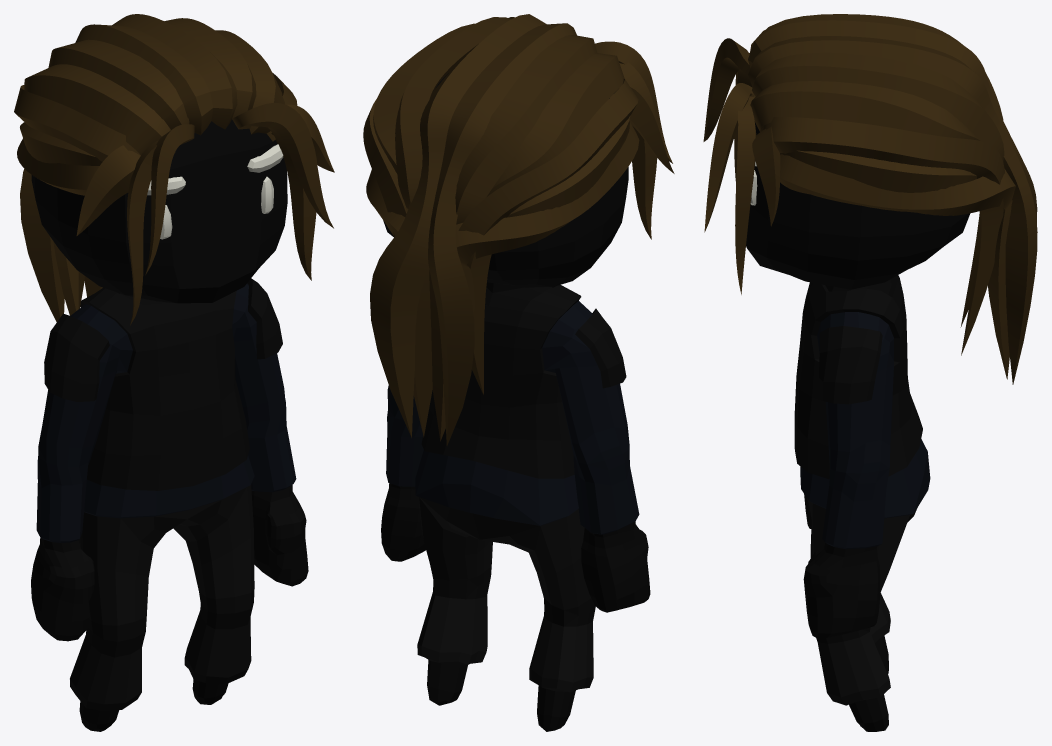
File: BlueSoldier_Female.obj
3 renders of one model, left to right at view 1: azimuth 30°, elevation 25°; view 2: azimuth 150°, elevation 25°; view 3: azimuth 270°, elevation 25°, orthographic. The views are drawn at different scales.
Parts seen in each view (by area): view 1: Body_Cube.004; view 2: Body_Cube.004; view 3: Body_Cube.004.
Boxes of the visible parts, x1,y1,x2,y2 form: Body_Cube.004: [14, 14, 334, 731]; Body_Cube.004: [363, 14, 674, 731]; Body_Cube.004: [703, 14, 1037, 731].
Bounding box in the file's own units: 1.28 × 3.16 × 1.42.
